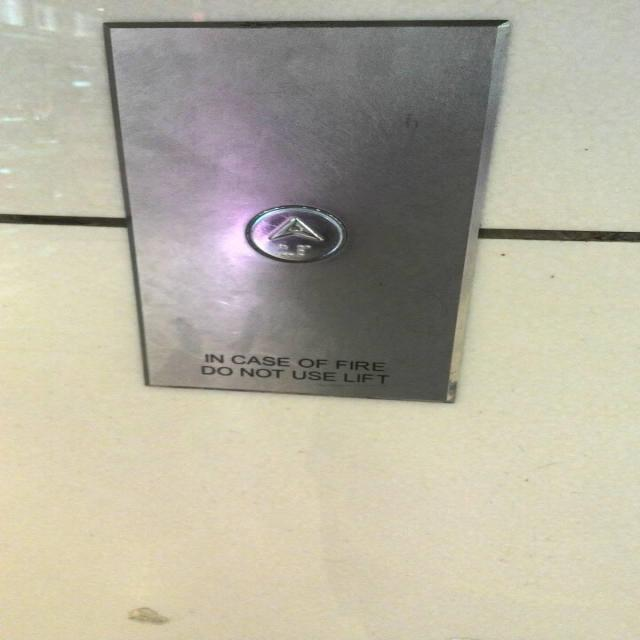up: (242, 202, 348, 264)
